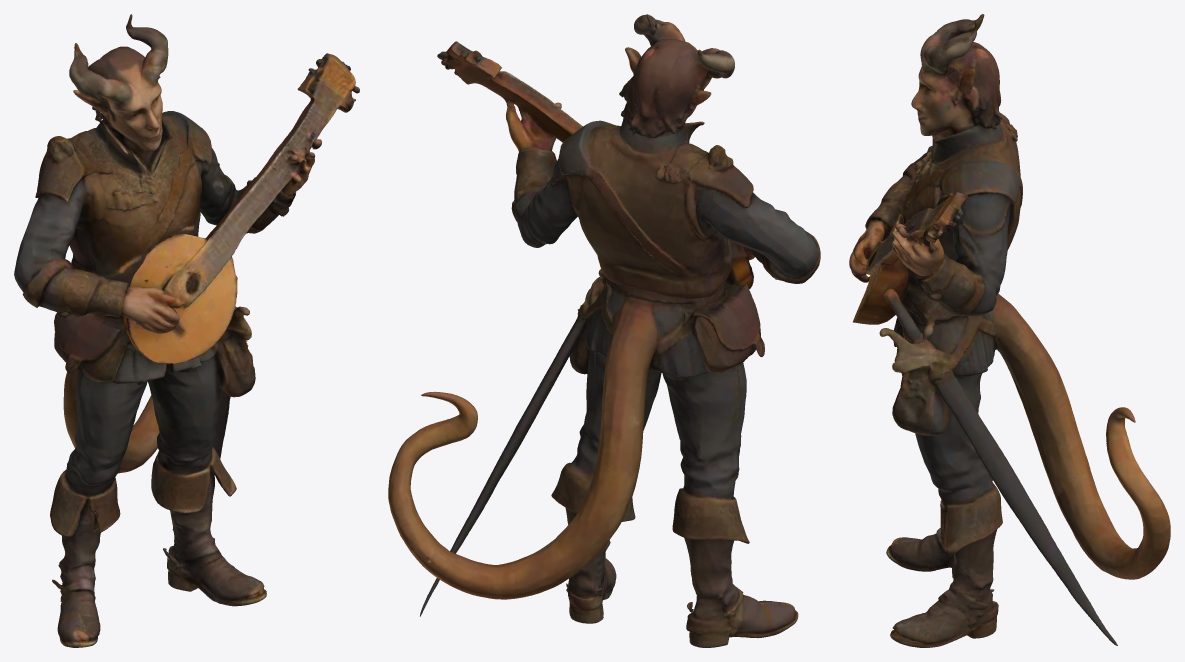
The model's file is tiefling bard.glb.
The picture shows the model from 3 angles, left to right: view 1: azimuth 30°, elevation 25°; view 2: azimuth 150°, elevation 25°; view 3: azimuth 270°, elevation 25°; orthographic projection. The views are drawn at different scales.
Size of the model in its own units: 1.24 by 2 by 0.9982.
Materials: 1 (1 with a texture image).
